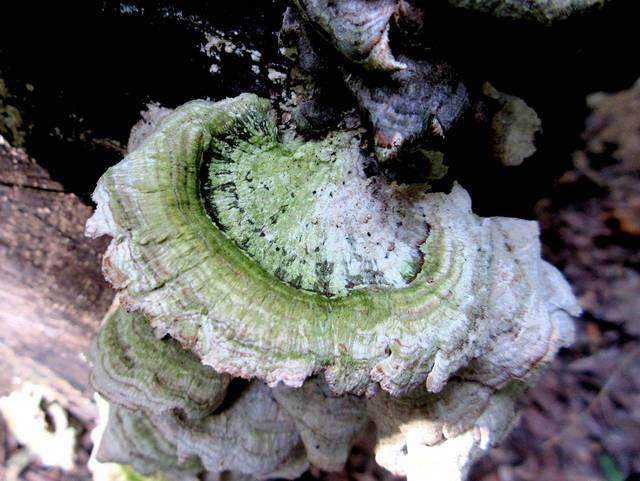Non-edible Mushroom: (82, 90, 582, 479)
